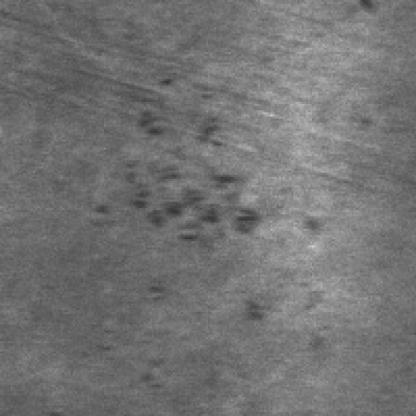rolled-in_scale: (125, 72, 270, 245)
